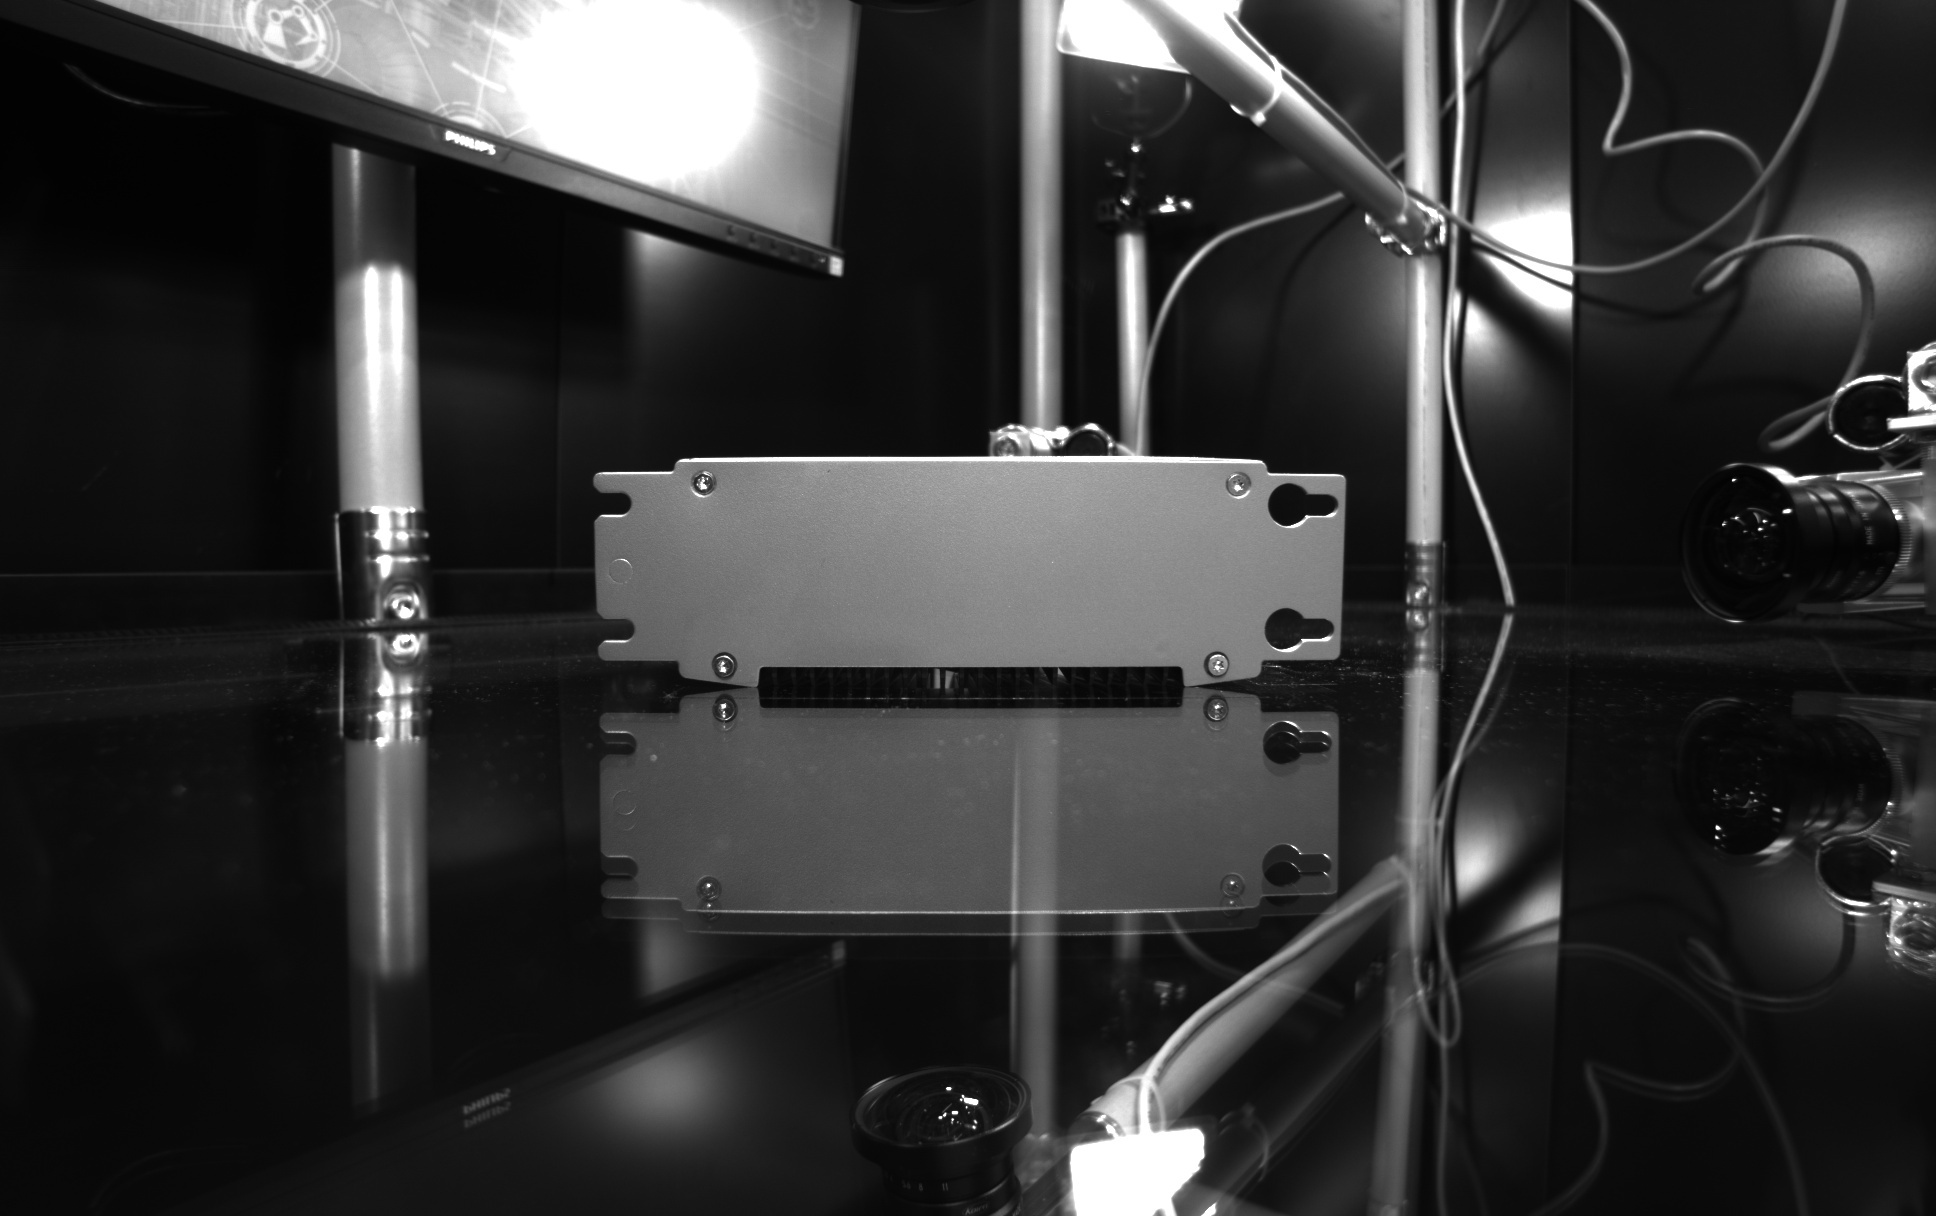CamBack: (565, 431, 1366, 691)
Schraube: (1222, 465, 1258, 504), (684, 465, 721, 502)
Schraube_gespiegelt: (688, 871, 728, 927), (705, 696, 745, 747), (1196, 691, 1237, 741), (1213, 870, 1254, 920)
Schraube_halb: (706, 646, 745, 685), (1198, 644, 1236, 684)
